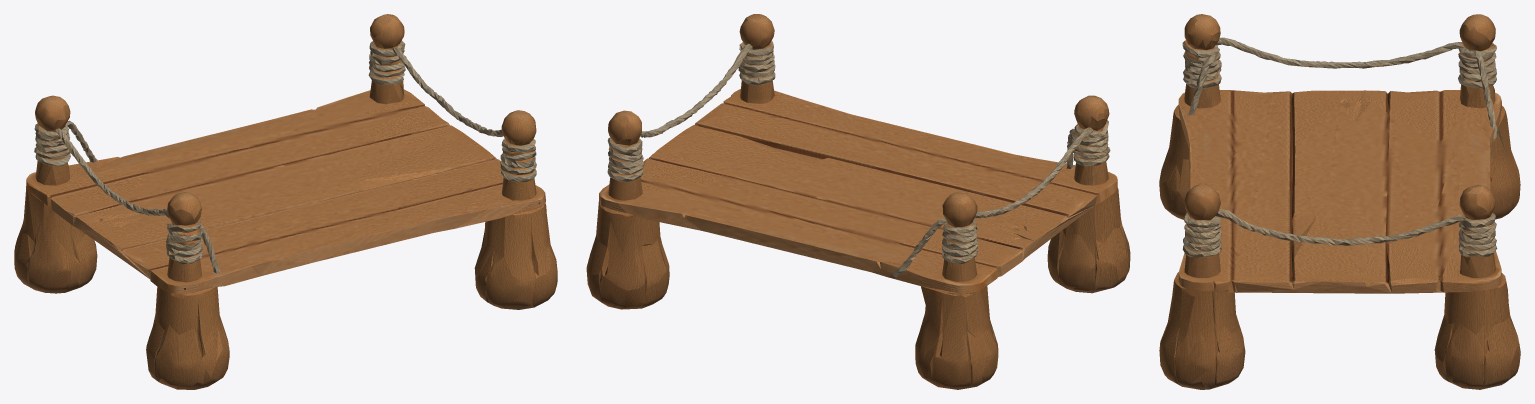
The model's file is dock.glb.
The picture shows the model from 3 angles, left to right: view 1: azimuth 30°, elevation 25°; view 2: azimuth 150°, elevation 25°; view 3: azimuth 270°, elevation 25°; orthographic projection. The views are drawn at different scales.
Size of the model in its own units: 1.9 by 0.8358 by 1.42.
Materials: 1 (1 with a texture image).
